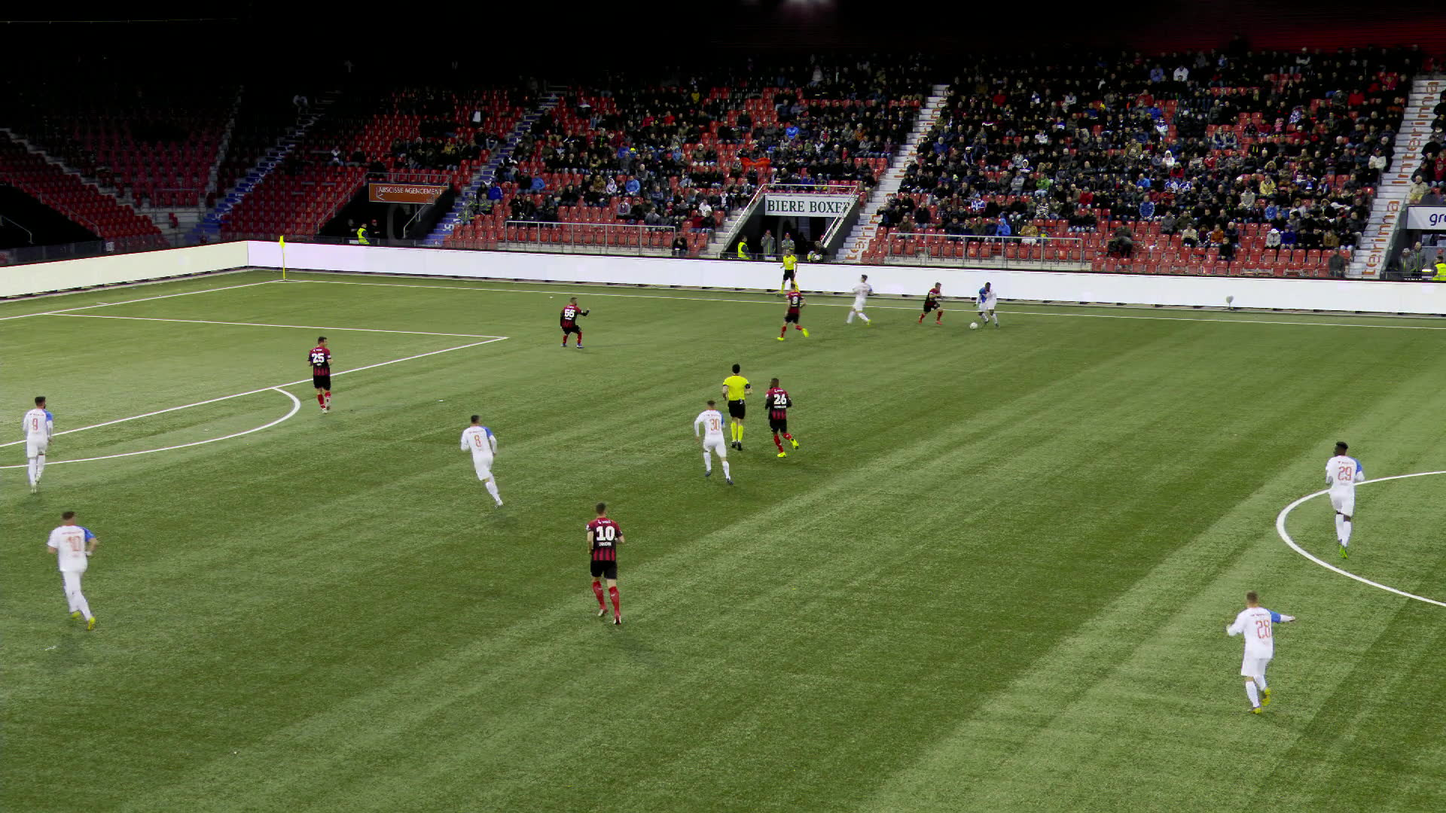ball: (969, 321, 977, 328)
player: (1227, 587, 1294, 715), (47, 510, 105, 623), (1319, 442, 1364, 553), (584, 503, 625, 622), (461, 413, 504, 505), (693, 397, 731, 480), (20, 396, 53, 489), (764, 377, 795, 458), (307, 333, 333, 413), (847, 275, 874, 326), (560, 297, 587, 348), (783, 285, 807, 342), (969, 282, 999, 326), (921, 282, 943, 325)
referee: (721, 365, 752, 449), (779, 248, 799, 297)
